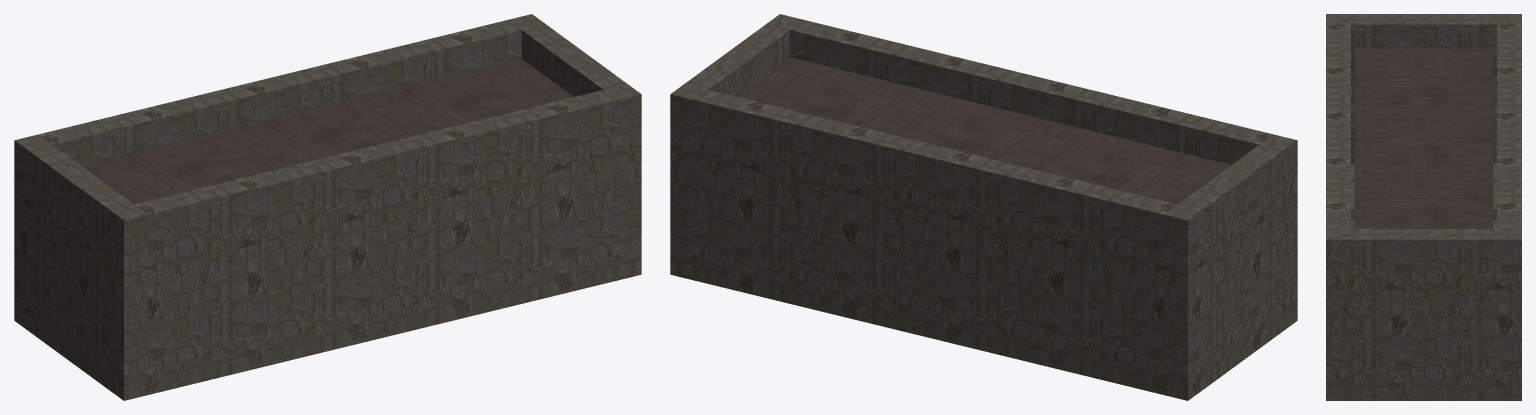
File: prop_trough.glb
The picture shows the model from 3 angles, left to right: view 1: azimuth 30°, elevation 25°; view 2: azimuth 150°, elevation 25°; view 3: azimuth 270°, elevation 25°; orthographic projection. The views are drawn at different scales.
Parts seen in each view (by area): view 1: prop_trough; view 2: prop_trough; view 3: prop_trough.
Boxes of the visible parts, x1=… form: prop_trough: x1=14, y1=14, x2=641, y2=400; prop_trough: x1=670, y1=14, x2=1297, y2=400; prop_trough: x1=1326, y1=14, x2=1521, y2=400.
Size of the model in its own units: 1.5 by 0.5 by 0.55.
Materials: 2 (2 with a texture image).
